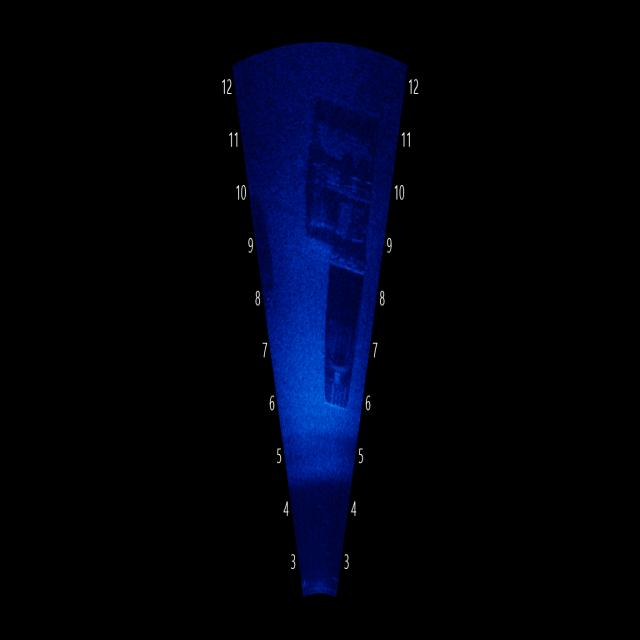square: (286, 85, 378, 276), (312, 266, 366, 430)
